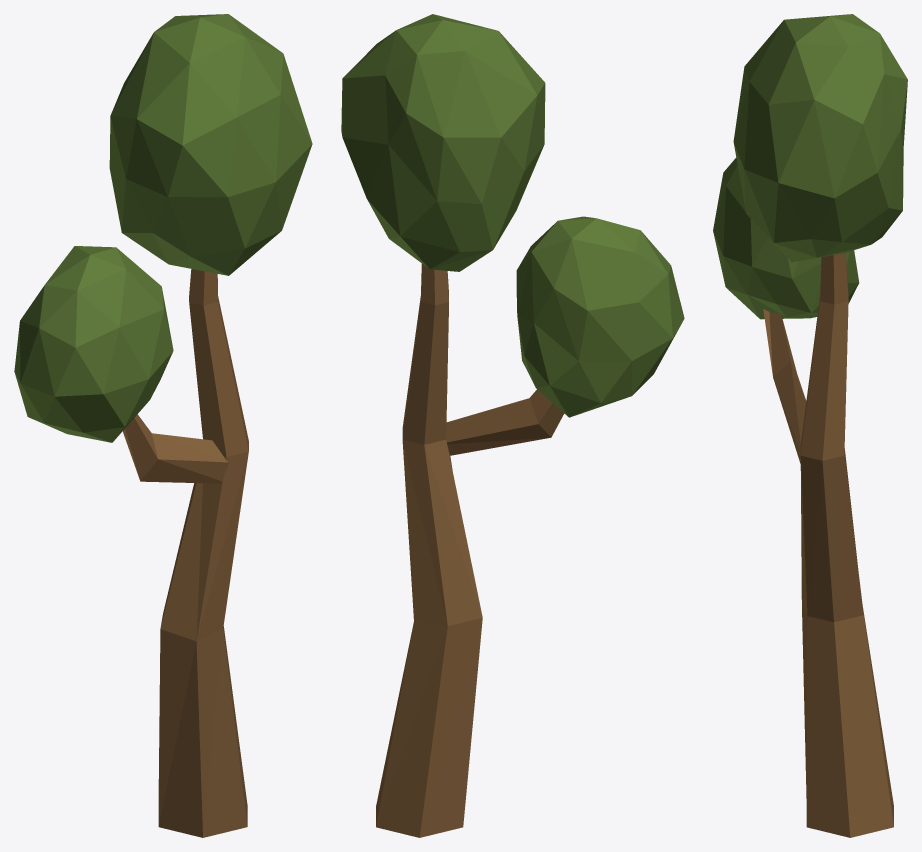
File: Tree_4_3.FBX
The picture shows the model from 3 angles, left to right: view 1: azimuth 30°, elevation 25°; view 2: azimuth 150°, elevation 25°; view 3: azimuth 270°, elevation 25°; orthographic projection. The views are drawn at different scales.
Visible parts, largest first — view 1: Tree_4_3; view 2: Tree_4_3; view 3: Tree_4_3.
Part boxes in pixels (left/top/right/bottom): Tree_4_3: left=14, top=14, right=312, bottom=837; Tree_4_3: left=341, top=14, right=684, bottom=837; Tree_4_3: left=713, top=14, right=907, bottom=837.
Bounding box in the file's own units: 77.57 × 194 × 43.25.
Materials: 1 (1 with a texture image).
